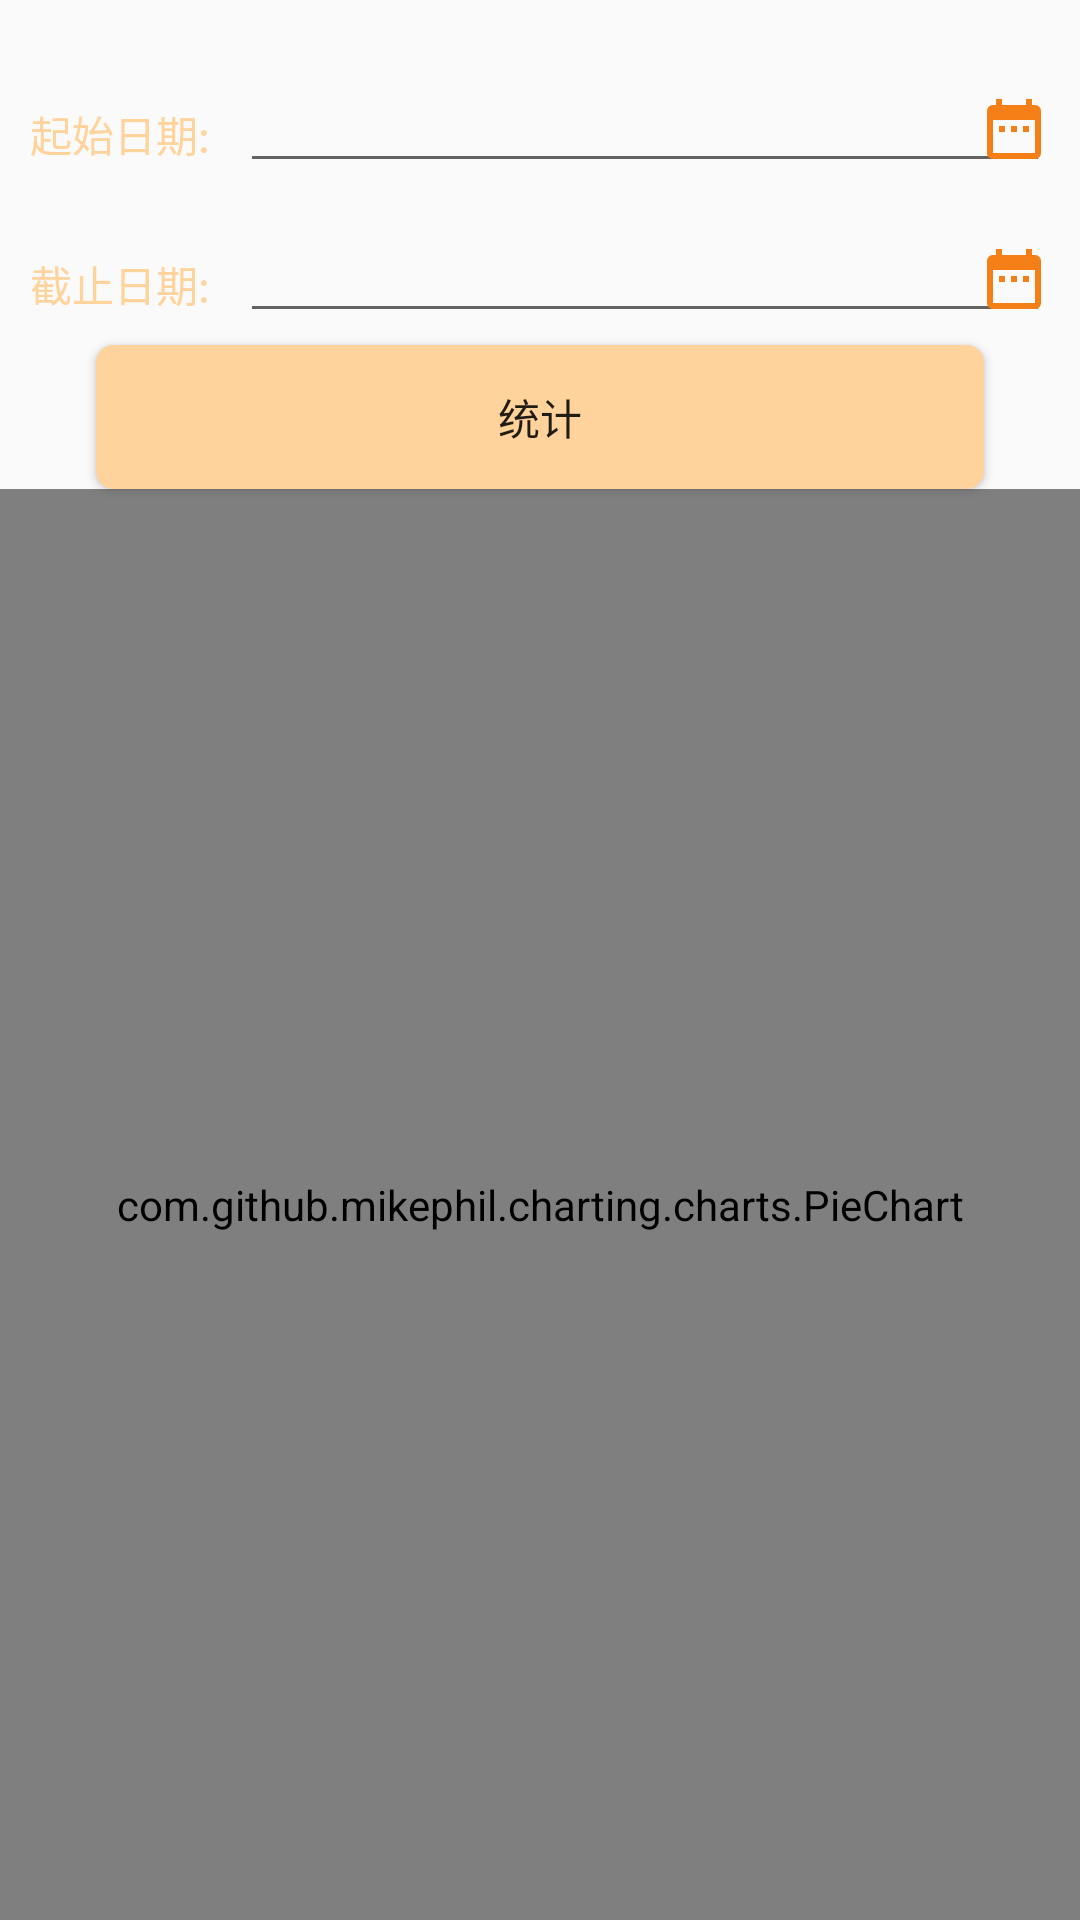

Screen size 1080×1920. Icon name, then its box in pixels as (x1, y1, x2, y2):
date range: (978, 99, 1041, 159), (978, 249, 1041, 309)
